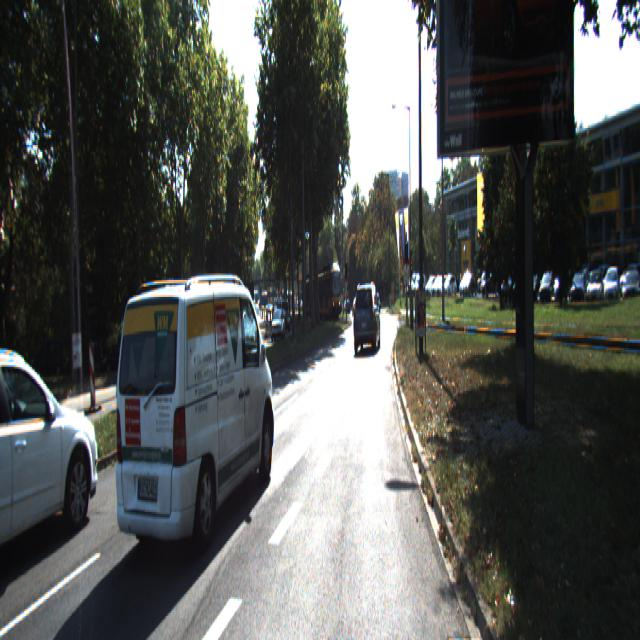Car: (115, 258, 279, 562), (0, 322, 100, 576), (116, 317, 173, 408), (353, 282, 381, 355), (308, 267, 342, 322), (222, 310, 254, 361)
